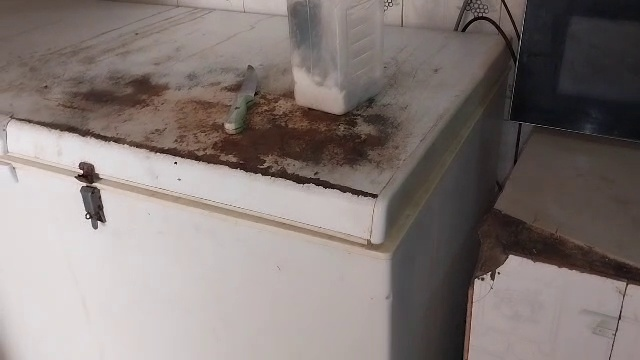refrigerator: (1, 3, 475, 360)
